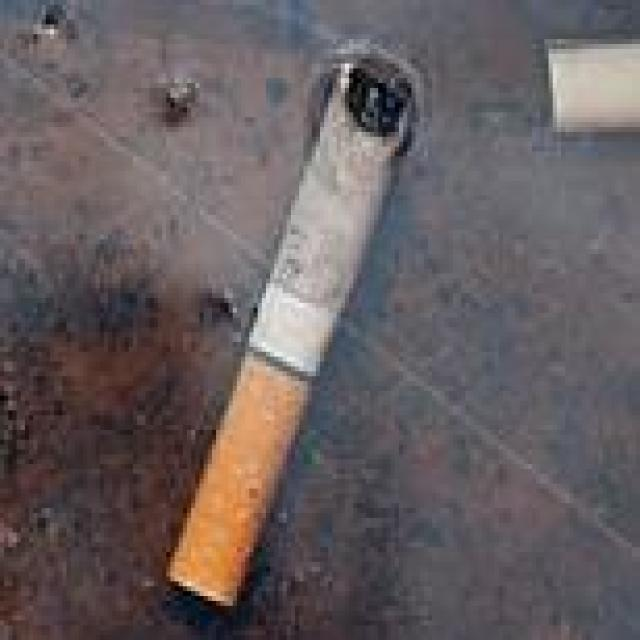-Other waste - cigarette butt-: (166, 40, 417, 608)
